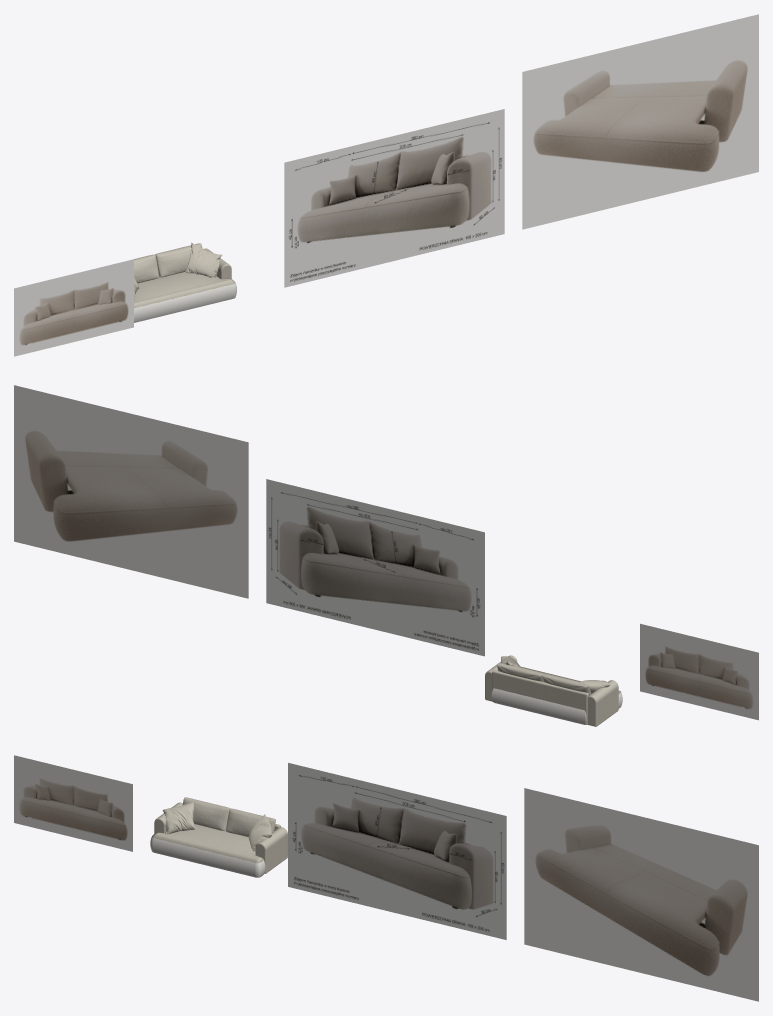
The model's file is sofa_ovo_z_pojemnikiem_beżowa_boucle.glb.
3 renders of one model, top to bottom at view 1: azimuth 30°, elevation 25°; view 2: azimuth 150°, elevation 25°; view 3: azimuth 330°, elevation 25°, orthographic.
Parts seen in each view (by area): view 1: mesh_25_ROOT__Image#2_Layer0, mesh_24_ROOT__Image#1_Layer0, mesh_26_ROOT__Image_Layer0, mesh_8_ROOT__SOFA_OVO_BOUCLE__Component_998899_Layer0_209_20, mesh_10_ROOT__SOFA_OVO_BOUCLE__Component_998899__Component_9, mesh_0_ROOT__SOFA_OVO_BOUCLE__Agrupar#7_Layer0_209_205_194_d, mesh_21_ROOT__SOFA_OVO_BOUCLE__Object007__Component_1031582_, mesh_2_ROOT__SOFA_OVO_BOUCLE__Agrupar#7_Layer0_209_205_194_d; view 2: mesh_25_ROOT__Image#2_Layer0, mesh_24_ROOT__Image#1_Layer0, mesh_26_ROOT__Image_Layer0, mesh_22_ROOT__SOFA_OVO_BOUCLE__Component_993784_Layer0_209_2, mesh_10_ROOT__SOFA_OVO_BOUCLE__Component_998899__Component_9, mesh_4_ROOT__SOFA_OVO_BOUCLE__Component_1018941_Layer0_209_2; view 3: mesh_25_ROOT__Image#2_Layer0, mesh_24_ROOT__Image#1_Layer0, mesh_26_ROOT__Image_Layer0, mesh_8_ROOT__SOFA_OVO_BOUCLE__Component_998899_Layer0_209_20, mesh_10_ROOT__SOFA_OVO_BOUCLE__Component_998899__Component_9, mesh_16_ROOT__SOFA_OVO_BOUCLE__Component_1009861_Layer0_209_, mesh_2_ROOT__SOFA_OVO_BOUCLE__Agrupar#7_Layer0_209_205_194_d, mesh_0_ROOT__SOFA_OVO_BOUCLE__Agrupar#7_Layer0_209_205_194_d, mesh_20_ROOT__SOFA_OVO_BOUCLE__default001__Component_1100527, mesh_21_ROOT__SOFA_OVO_BOUCLE__Object007__Component_1031582_.
Part boxes in pixels (bbox=[...]): mesh_25_ROOT__Image#2_Layer0: bbox=[522, 14, 758, 229]; mesh_24_ROOT__Image#1_Layer0: bbox=[284, 109, 504, 287]; mesh_26_ROOT__Image_Layer0: bbox=[14, 259, 133, 356]; mesh_8_ROOT__SOFA_OVO_BOUCLE__Component_998899_Layer0_209_20: bbox=[134, 272, 235, 308]; mesh_10_ROOT__SOFA_OVO_BOUCLE__Component_998899__Component_9: bbox=[134, 283, 236, 322]; mesh_0_ROOT__SOFA_OVO_BOUCLE__Agrupar#7_Layer0_209_205_194_d: bbox=[155, 243, 202, 277]; mesh_21_ROOT__SOFA_OVO_BOUCLE__Object007__Component_1031582_: bbox=[184, 242, 222, 278]; mesh_2_ROOT__SOFA_OVO_BOUCLE__Agrupar#7_Layer0_209_205_194_d: bbox=[134, 254, 159, 283]; mesh_25_ROOT__Image#2_Layer0: bbox=[14, 385, 248, 598]; mesh_24_ROOT__Image#1_Layer0: bbox=[266, 479, 484, 656]; mesh_26_ROOT__Image_Layer0: bbox=[640, 623, 758, 720]; mesh_22_ROOT__SOFA_OVO_BOUCLE__Component_993784_Layer0_209_2: bbox=[492, 670, 589, 724]; mesh_10_ROOT__SOFA_OVO_BOUCLE__Component_998899__Component_9: bbox=[491, 688, 622, 724]; mesh_4_ROOT__SOFA_OVO_BOUCLE__Component_1018941_Layer0_209_2: bbox=[587, 680, 618, 726]; mesh_25_ROOT__Image#2_Layer0: bbox=[524, 788, 758, 1001]; mesh_24_ROOT__Image#1_Layer0: bbox=[288, 763, 506, 939]; mesh_26_ROOT__Image_Layer0: bbox=[14, 755, 132, 851]; mesh_8_ROOT__SOFA_OVO_BOUCLE__Component_998899_Layer0_209_20: bbox=[152, 824, 263, 862]; mesh_10_ROOT__SOFA_OVO_BOUCLE__Component_998899__Component_9: bbox=[150, 837, 265, 877]; mesh_16_ROOT__SOFA_OVO_BOUCLE__Component_1009861_Layer0_209_: bbox=[255, 827, 287, 873]; mesh_2_ROOT__SOFA_OVO_BOUCLE__Agrupar#7_Layer0_209_205_194_d: bbox=[182, 797, 230, 831]; mesh_0_ROOT__SOFA_OVO_BOUCLE__Agrupar#7_Layer0_209_205_194_d: bbox=[226, 808, 275, 837]; mesh_20_ROOT__SOFA_OVO_BOUCLE__default001__Component_1100527: bbox=[162, 802, 195, 834]; mesh_21_ROOT__SOFA_OVO_BOUCLE__Object007__Component_1031582_: bbox=[248, 814, 271, 852].
Bounding box in the file's own units: 17065 × 3624 × 1655.
9 materials, 5 textured.
